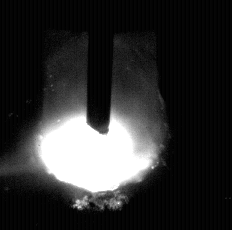arame: (87, 0, 113, 134)
poca: (37, 0, 164, 230)
